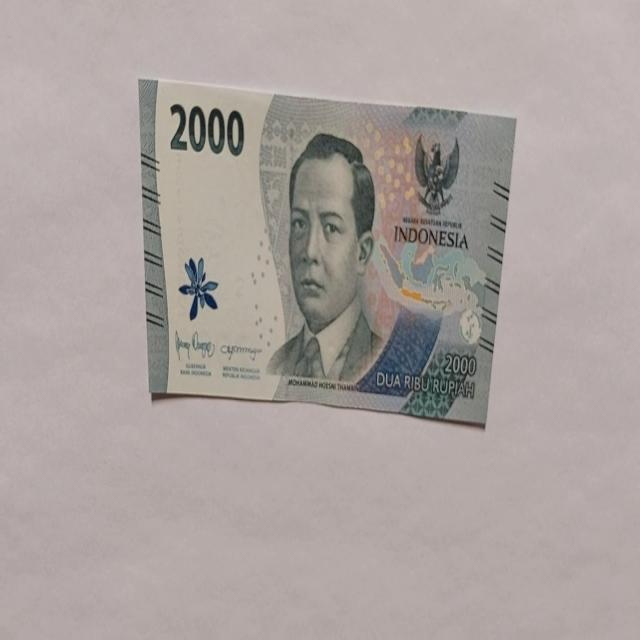dua ribu rupiah: (138, 75, 516, 425), (264, 131, 384, 385)
